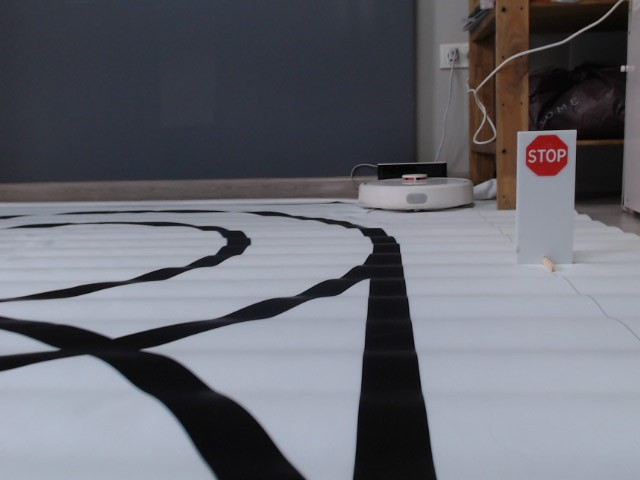Stop: (524, 135, 570, 177)
